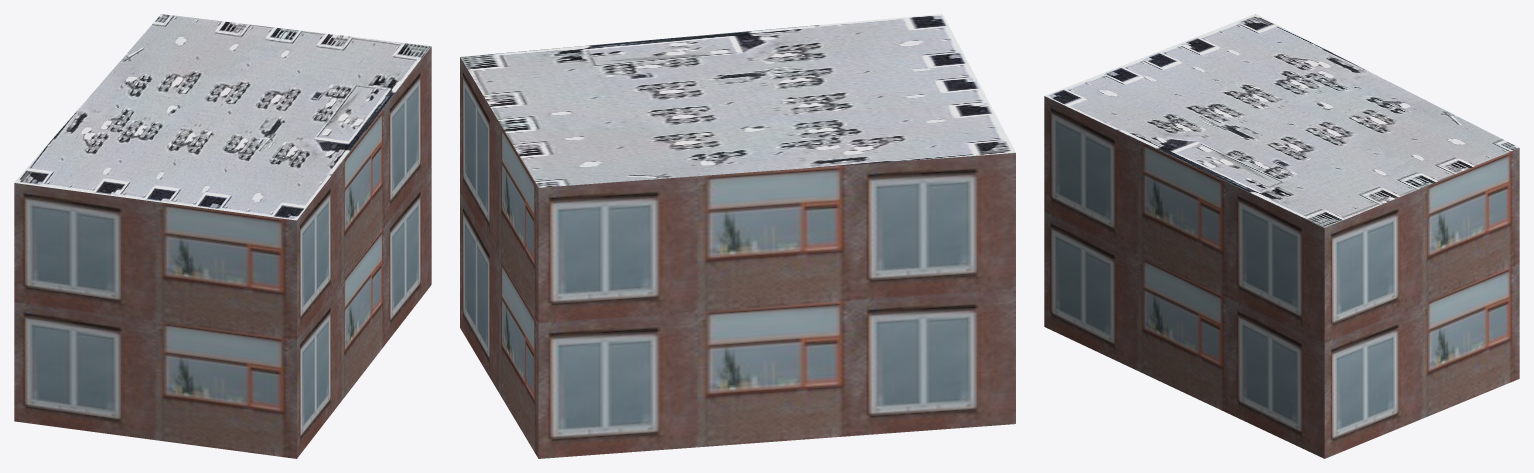
File: ResTex__1435.fbx
The picture shows the model from 3 angles, left to right: view 1: azimuth 30°, elevation 25°; view 2: azimuth 150°, elevation 25°; view 3: azimuth 270°, elevation 25°; orthographic projection. The views are drawn at different scales.
Parts seen in each view (by area): view 1: CityEngineMaterial_19_m, CityEngineMaterial_15_m; view 2: CityEngineMaterial_19_m, CityEngineMaterial_15_m; view 3: CityEngineMaterial_19_m, CityEngineMaterial_15_m.
Boxes of the visible parts, x1,y1,x2,y2 form: CityEngineMaterial_19_m: (14,47,431,458); CityEngineMaterial_15_m: (14,14,431,220); CityEngineMaterial_19_m: (460,57,1015,458); CityEngineMaterial_15_m: (460,14,1015,187); CityEngineMaterial_19_m: (1044,96,1519,458); CityEngineMaterial_15_m: (1045,14,1519,227).
Bounding box in the file's own units: 11.93 × 6 × 11.2.
Materials: 2 (2 with a texture image).
